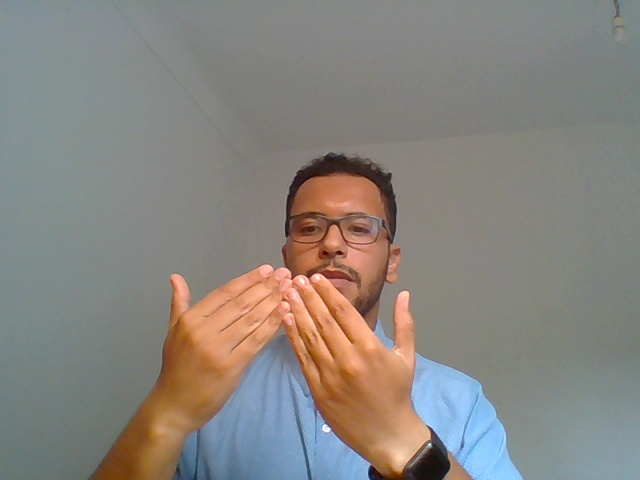thanks: (118, 256, 473, 480)
